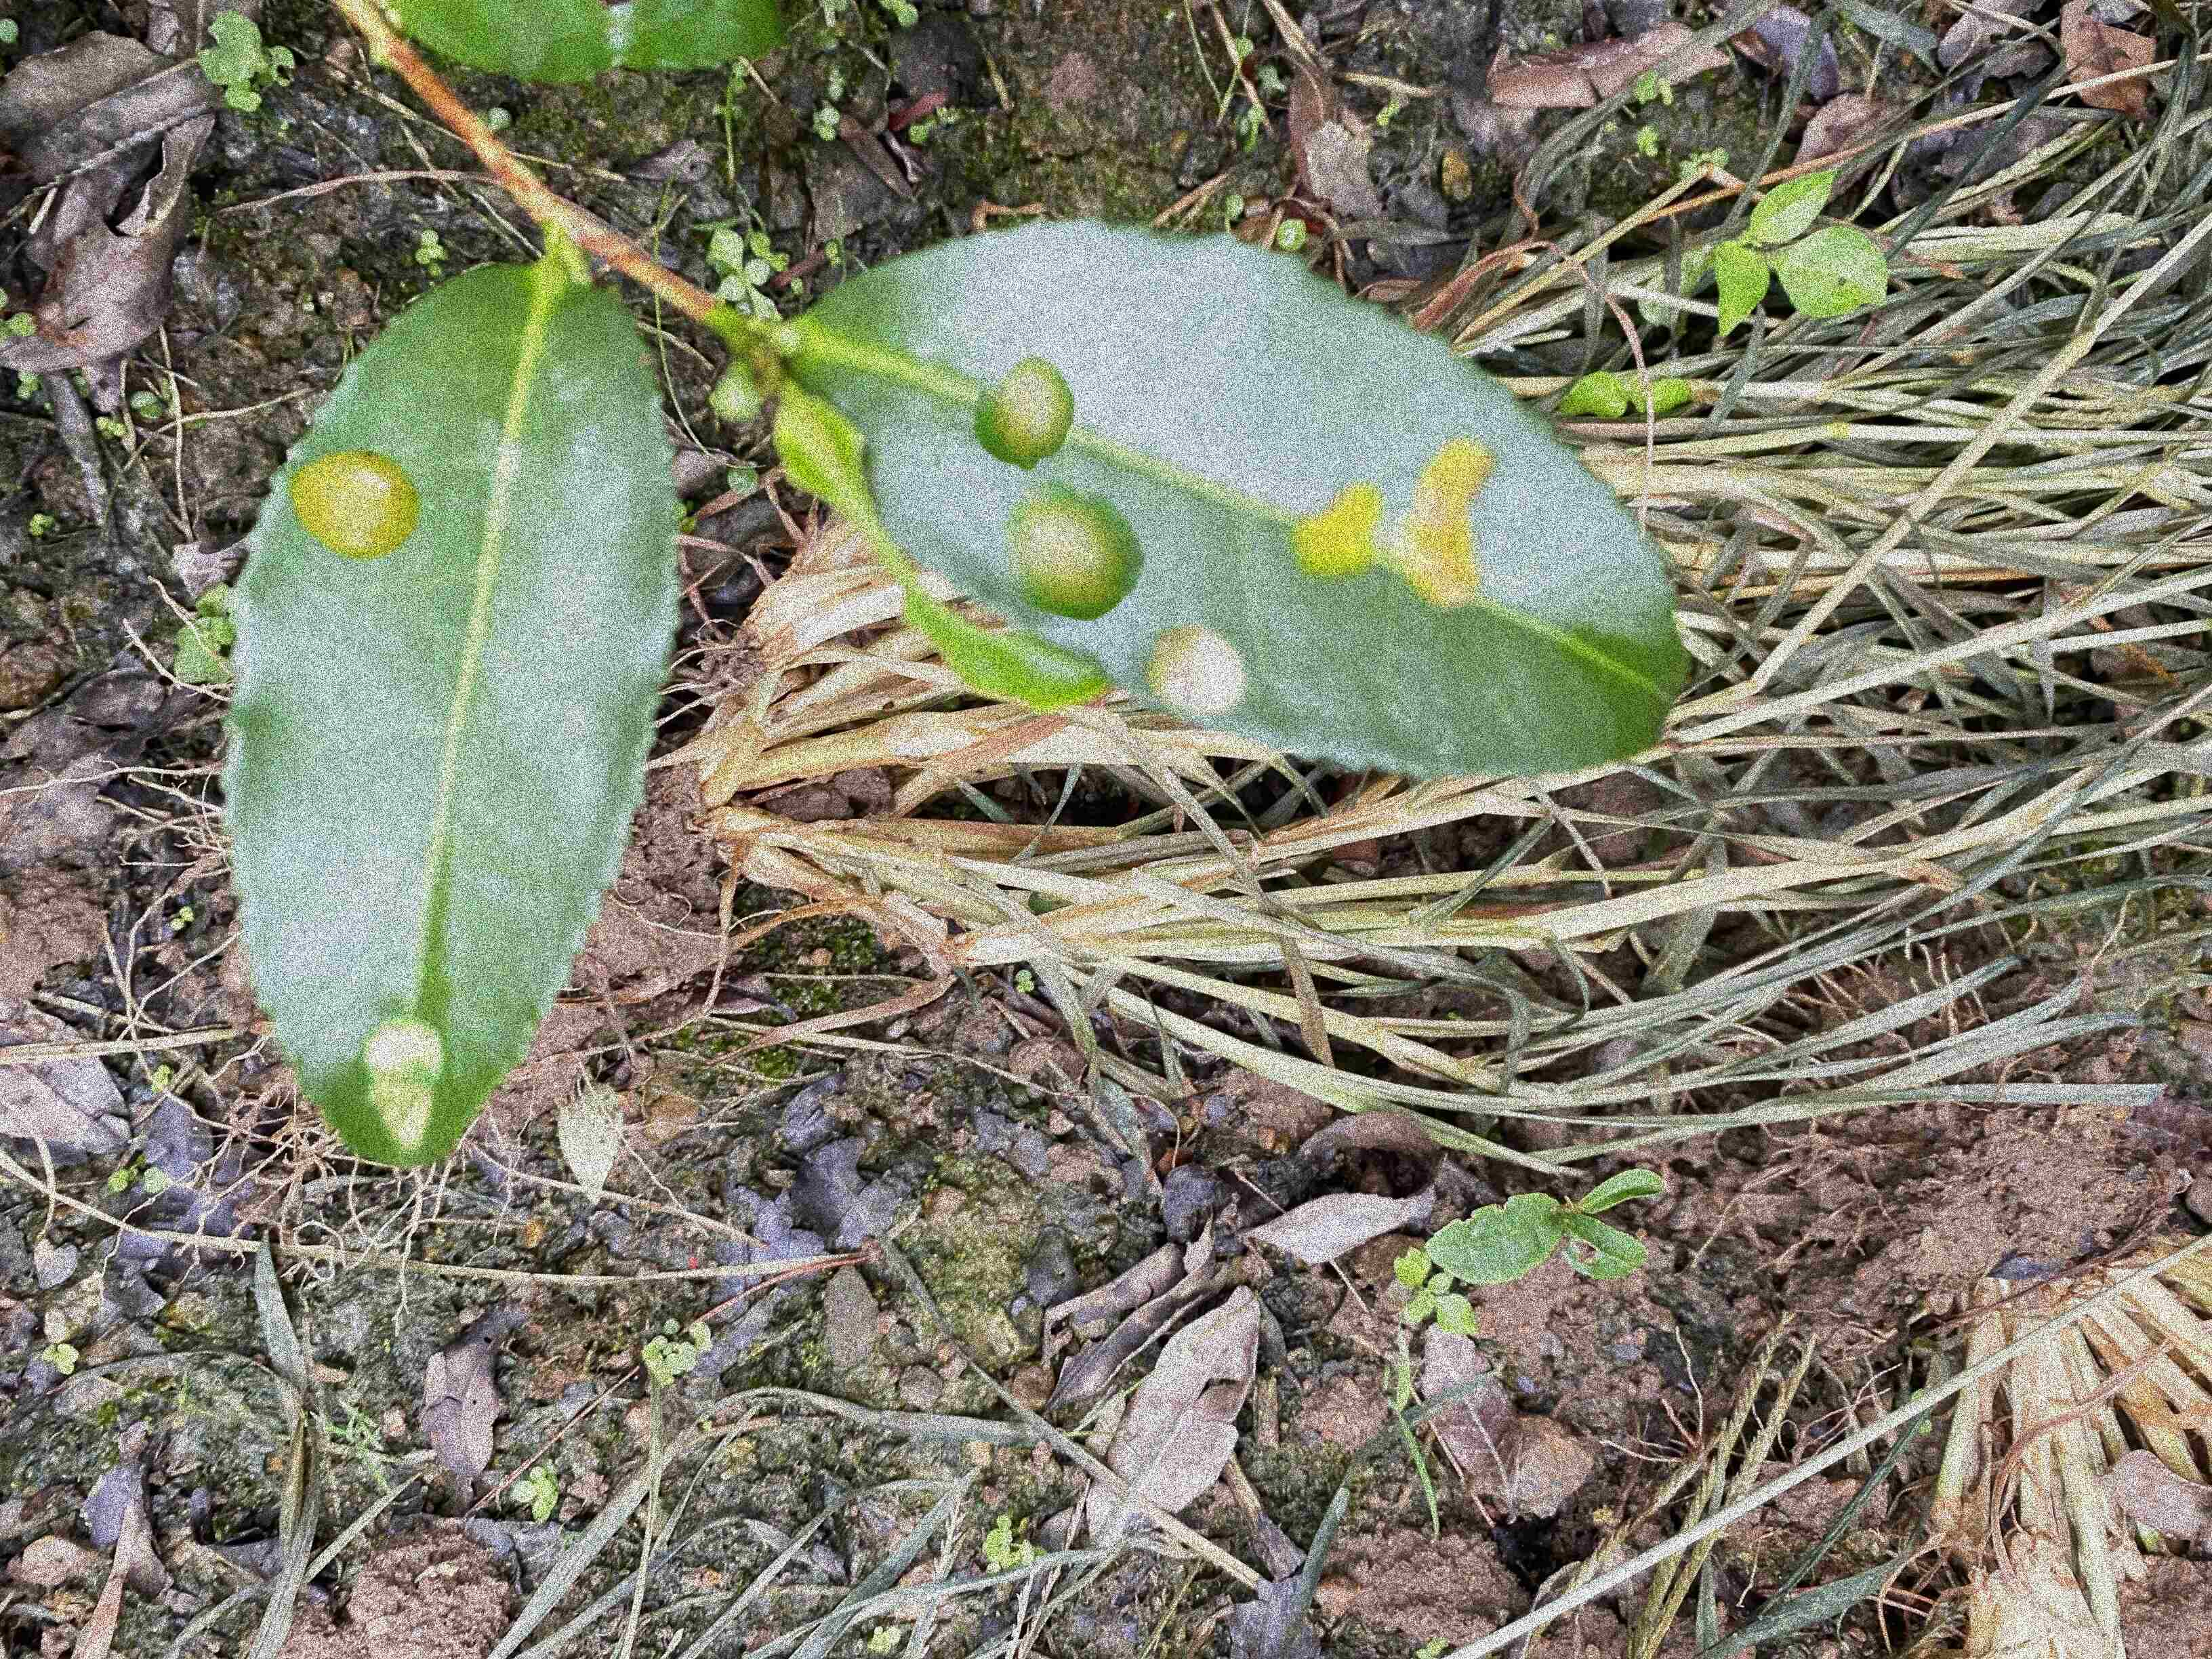chabing_high: (787, 220, 1693, 777), (225, 263, 681, 1168)
chihuo_high: (775, 389, 1109, 708)
